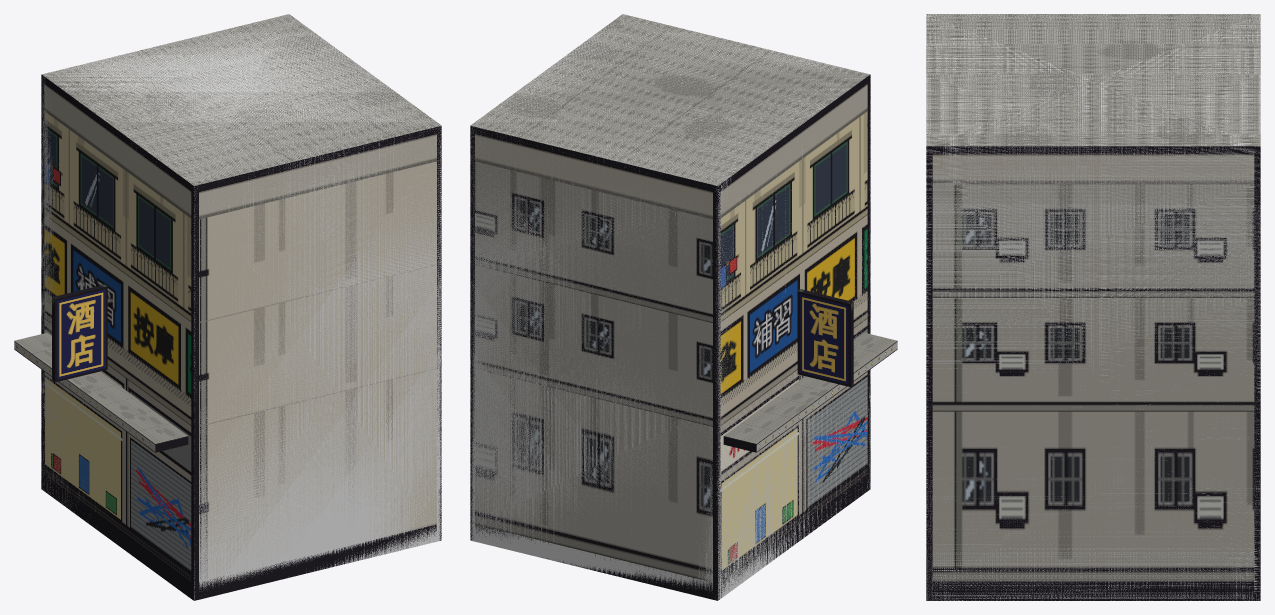
3 views of the same model, side by side, from view 1: azimuth 30°, elevation 25°; view 2: azimuth 150°, elevation 25°; view 3: azimuth 270°, elevation 25° (orthographic). The views are drawn at different scales.
Parts seen in each view (by area): view 1: 19D-E10, COL_19D-E10_0; view 2: 19D-E10, COL_19D-E10_0; view 3: 19D-E10, COL_19D-E10_0.
Part boxes in pixels (bbox=[...]): 19D-E10: bbox=[14, 14, 441, 600]; COL_19D-E10_0: bbox=[41, 14, 441, 600]; 19D-E10: bbox=[470, 14, 897, 600]; COL_19D-E10_0: bbox=[470, 14, 870, 600]; 19D-E10: bbox=[926, 14, 1260, 600]; COL_19D-E10_0: bbox=[926, 14, 1260, 600].
Size of the model in its own units: 9.35 by 12 by 8.
Materials: 1 (1 with a texture image).
